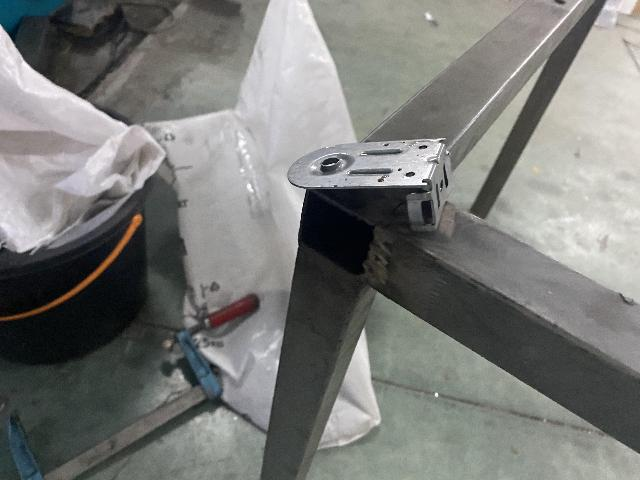Metal: (281, 125, 468, 224)
Plastik: (3, 6, 163, 240), (0, 178, 162, 370)
